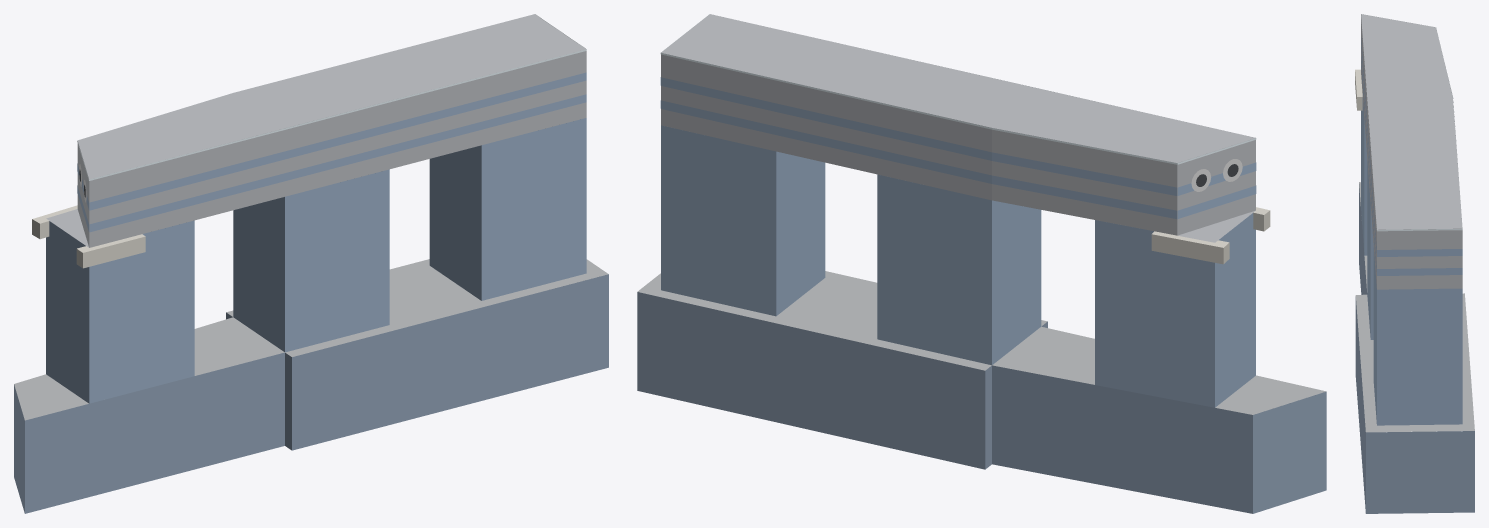
File: elephant.glb
3 renders of one model, left to right at view 1: azimuth 30°, elevation 25°; view 2: azimuth 150°, elevation 25°; view 3: azimuth 270°, elevation 25°, orthographic. The views are drawn at different scales.
Visible parts, largest first — view 1: elephant; view 2: elephant; view 3: elephant.
Part boxes in pixels (x1=…): elephant: x1=14, y1=14, x2=608, y2=513; elephant: x1=637, y1=14, x2=1326, y2=513; elephant: x1=1355, y1=14, x2=1474, y2=513.
Size of the model in its own units: 198 by 102 by 39.99.
